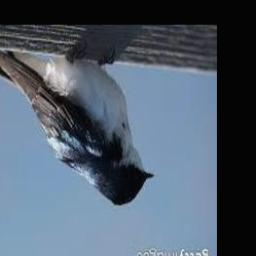Swallow: (0, 47, 154, 205)
